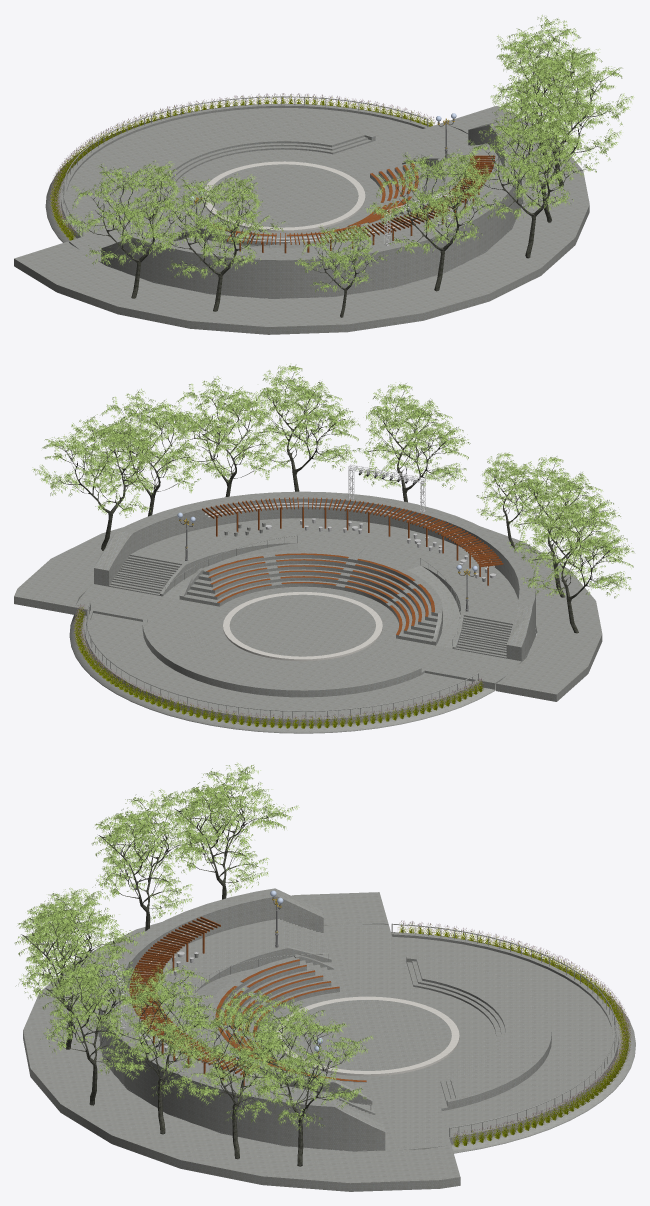
The model's file is OlympicPark_LakeSideStage.glb.
3 views of the same model, one above another, from view 1: azimuth 30°, elevation 25°; view 2: azimuth 150°, elevation 25°; view 3: azimuth 270°, elevation 25° (orthographic). The views are drawn at different scales.
Visible parts, largest first — view 1: 3DGeom-28, 3DGeom-645 (×8), 3DGeom-33, 3DGeom-1, 3DGeom-644 (×7), 3DGeom-29, 3DGeom-2, 3DGeom-3, 3DGeom-25, 3DGeom-84; view 2: 3DGeom-28, 3DGeom-645 (×8), 3DGeom-1, 3DGeom-33, 3DGeom-644 (×8), 3DGeom-29, 3DGeom-3, 3DGeom-84, 3DGeom-2, 3DGeom-25; view 3: 3DGeom-28, 3DGeom-645 (×8), 3DGeom-33, 3DGeom-1, 3DGeom-644 (×7), 3DGeom-29, 3DGeom-3, 3DGeom-2, 3DGeom-84, 3DGeom-25.
Boxes of the visible parts, x1,y1,x2,y2 form: 3DGeom-28: [45, 103, 521, 298]; 3DGeom-645 (×8): [61, 15, 634, 292]; 3DGeom-33: [14, 106, 589, 334]; 3DGeom-1: [178, 163, 426, 246]; 3DGeom-644 (×7): [83, 51, 614, 317]; 3DGeom-29: [62, 96, 521, 298]; 3DGeom-2: [202, 161, 365, 232]; 3DGeom-3: [213, 163, 418, 236]; 3DGeom-25: [372, 166, 444, 234]; 3DGeom-84: [250, 228, 380, 247]; 3DGeom-28: [69, 491, 535, 733]; 3DGeom-645 (×8): [32, 363, 634, 598]; 3DGeom-1: [183, 550, 442, 656]; 3DGeom-33: [14, 526, 602, 701]; 3DGeom-644 (×8): [55, 372, 620, 633]; 3DGeom-29: [86, 584, 535, 711]; 3DGeom-3: [206, 553, 434, 635]; 3DGeom-84: [358, 548, 459, 648]; 3DGeom-2: [223, 592, 382, 661]; 3DGeom-25: [163, 543, 452, 648]; 3DGeom-28: [99, 888, 635, 1153]; 3DGeom-645 (×8): [14, 762, 373, 1131]; 3DGeom-33: [23, 892, 460, 1191]; 3DGeom-1: [206, 956, 451, 1105]; 3DGeom-644 (×7): [21, 773, 349, 1166]; 3DGeom-29: [99, 923, 616, 1151]; 3DGeom-3: [215, 959, 366, 1081]; 3DGeom-2: [276, 996, 459, 1076]; 3DGeom-84: [185, 962, 331, 1025]; 3DGeom-25: [189, 962, 373, 1111].
Bounding box in the file's own units: 75.94 × 18.57 × 64.5.
Materials: 21 (9 with a texture image).
